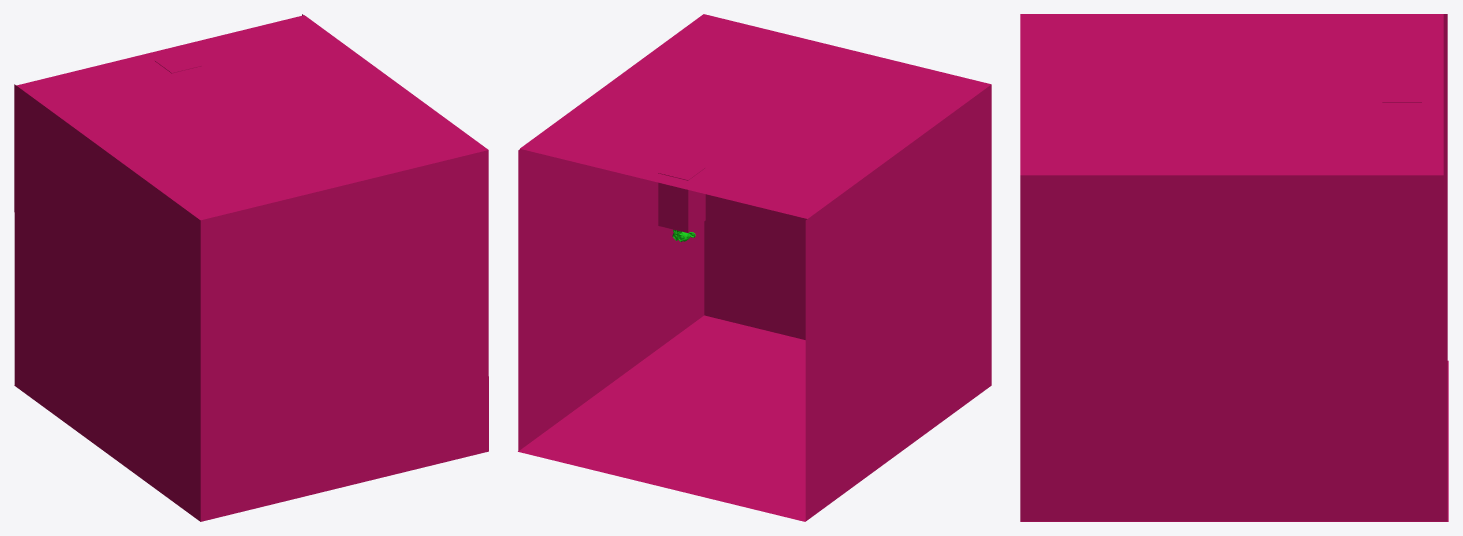
Rendered from suzanne.obj.
The picture shows the model from 3 angles, left to right: view 1: azimuth 30°, elevation 25°; view 2: azimuth 150°, elevation 25°; view 3: azimuth 270°, elevation 25°; orthographic projection. The views are drawn at different scales.
Parts seen in each view (by area): view 1: Plane, Cube.002; view 2: Plane, Cube.002; view 3: Plane, Cube.002.
Boxes of the visible parts, x1,y1,x2,y2 form: Plane: [14, 14, 488, 521]; Cube.002: [154, 53, 201, 73]; Plane: [518, 14, 991, 521]; Cube.002: [658, 160, 705, 232]; Plane: [1020, 14, 1448, 521]; Cube.002: [1382, 85, 1421, 102].
Bounding box in the file's own units: 1692 × 1694 × 1895.
